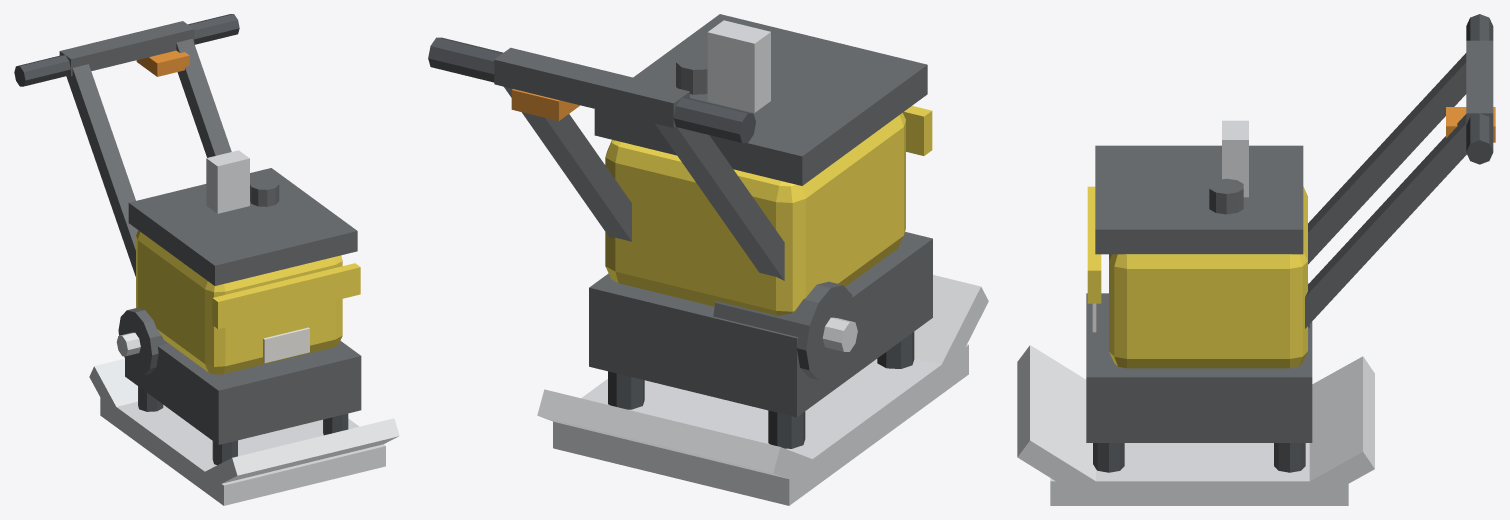
The model's file is tool-hire-depot-and-plant-yard-tool-hire-depot-and-pla-cf02e7cb__35326.glb.
The picture shows the model from 3 angles, left to right: view 1: azimuth 30°, elevation 25°; view 2: azimuth 150°, elevation 25°; view 3: azimuth 270°, elevation 25°; orthographic projection. The views are drawn at different scales.
Visible parts, largest first — view 1: tool-hire-depot-and-plant-yard-plate-compactor; view 2: tool-hire-depot-and-plant-yard-plate-compactor; view 3: tool-hire-depot-and-plant-yard-plate-compactor.
Boxes of the visible parts, left/top/right/bottom form: tool-hire-depot-and-plant-yard-plate-compactor: left=14, top=14, right=399, bottom=505; tool-hire-depot-and-plant-yard-plate-compactor: left=428, top=14, right=988, bottom=505; tool-hire-depot-and-plant-yard-plate-compactor: left=1017, top=14, right=1495, bottom=505.
Size of the model in its own units: 0.66 by 0.93 by 1.06.
